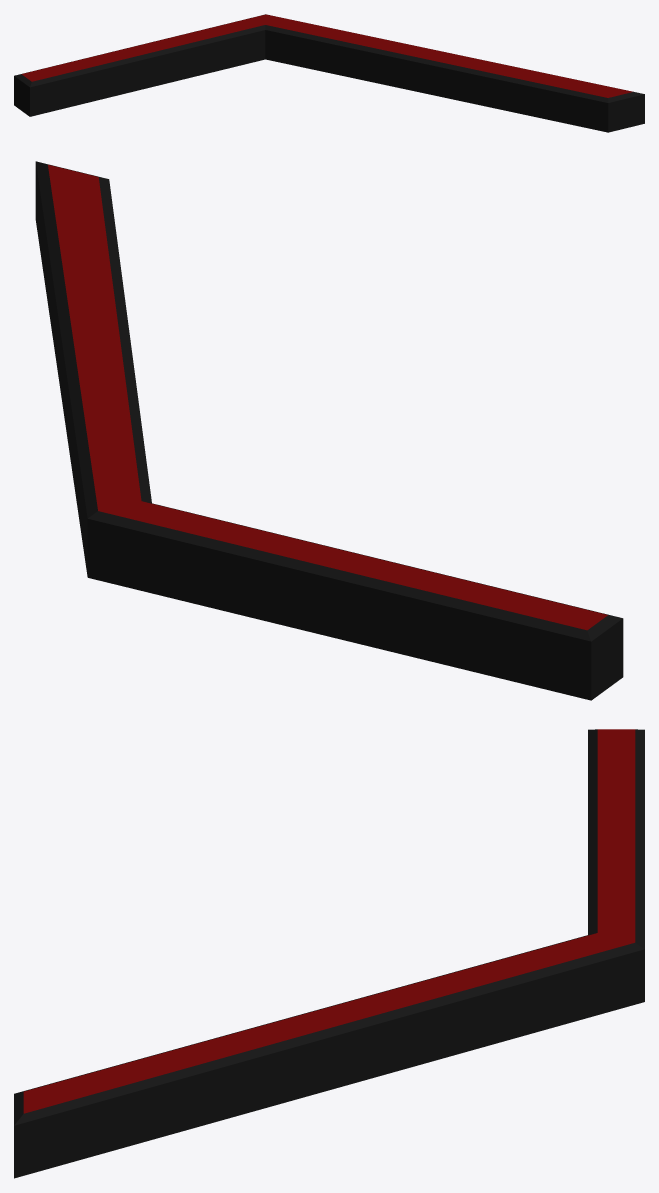
File: Left Blocker.FBX
The picture shows the model from 3 angles, top to bottom: view 1: azimuth 30°, elevation 25°; view 2: azimuth 150°, elevation 25°; view 3: azimuth 270°, elevation 25°; orthographic projection. The views are drawn at different scales.
Visible parts, largest first — view 1: Object; view 2: Object; view 3: Object.
Boxes of the visible parts, <box> form: Object: <box>14,14,644,132</box>; Object: <box>35,161,623,700</box>; Object: <box>14,729,644,1178</box>.
Size of the model in its own units: 96.62 by 6.5 by 65.05.
